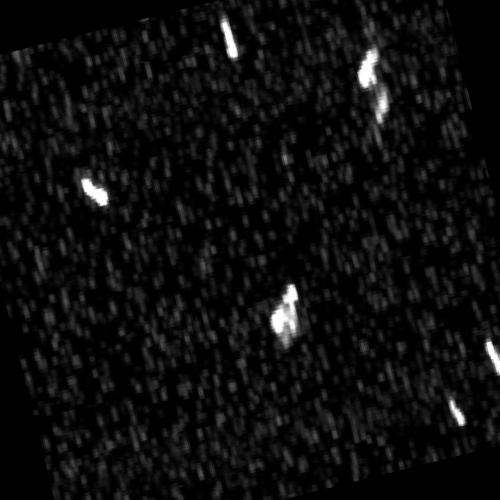ship: (270, 284, 299, 336), (359, 43, 380, 90), (81, 178, 111, 206), (220, 17, 239, 60), (374, 85, 391, 123), (484, 337, 500, 376), (448, 398, 467, 427)
